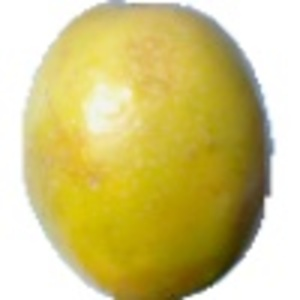maracujá: (19, 1, 277, 300)
